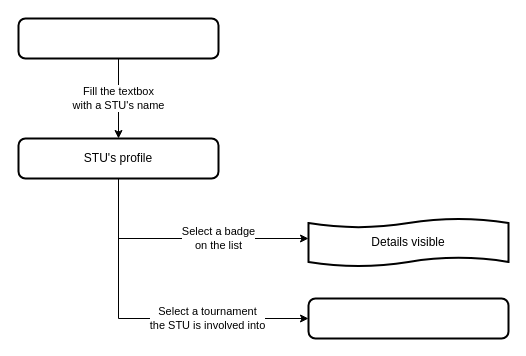
Some shapes in this 526 by 356 pixel diagram are drawn without their labels. Here are the shapes that lost their labels. From the top down, the centre of each, then its label:
At [118,38]: "Any view on the CKB platform".
At [408,318]: "Tournament page [back to differentiation]".
